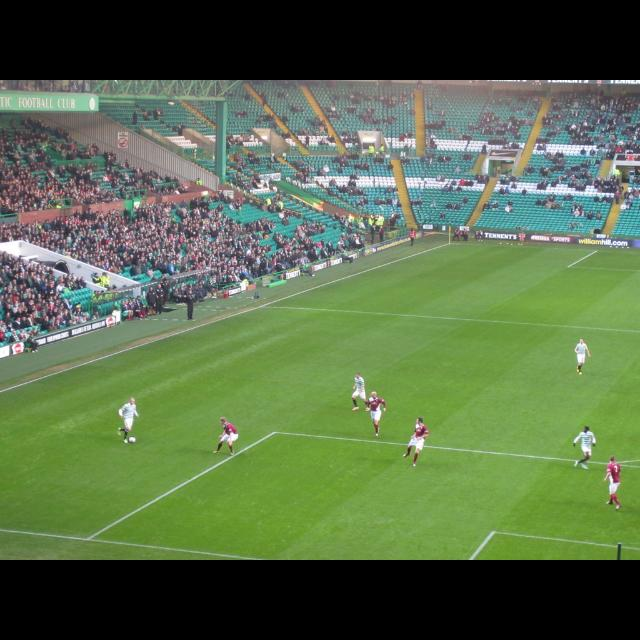Football: (128, 436, 134, 442)
